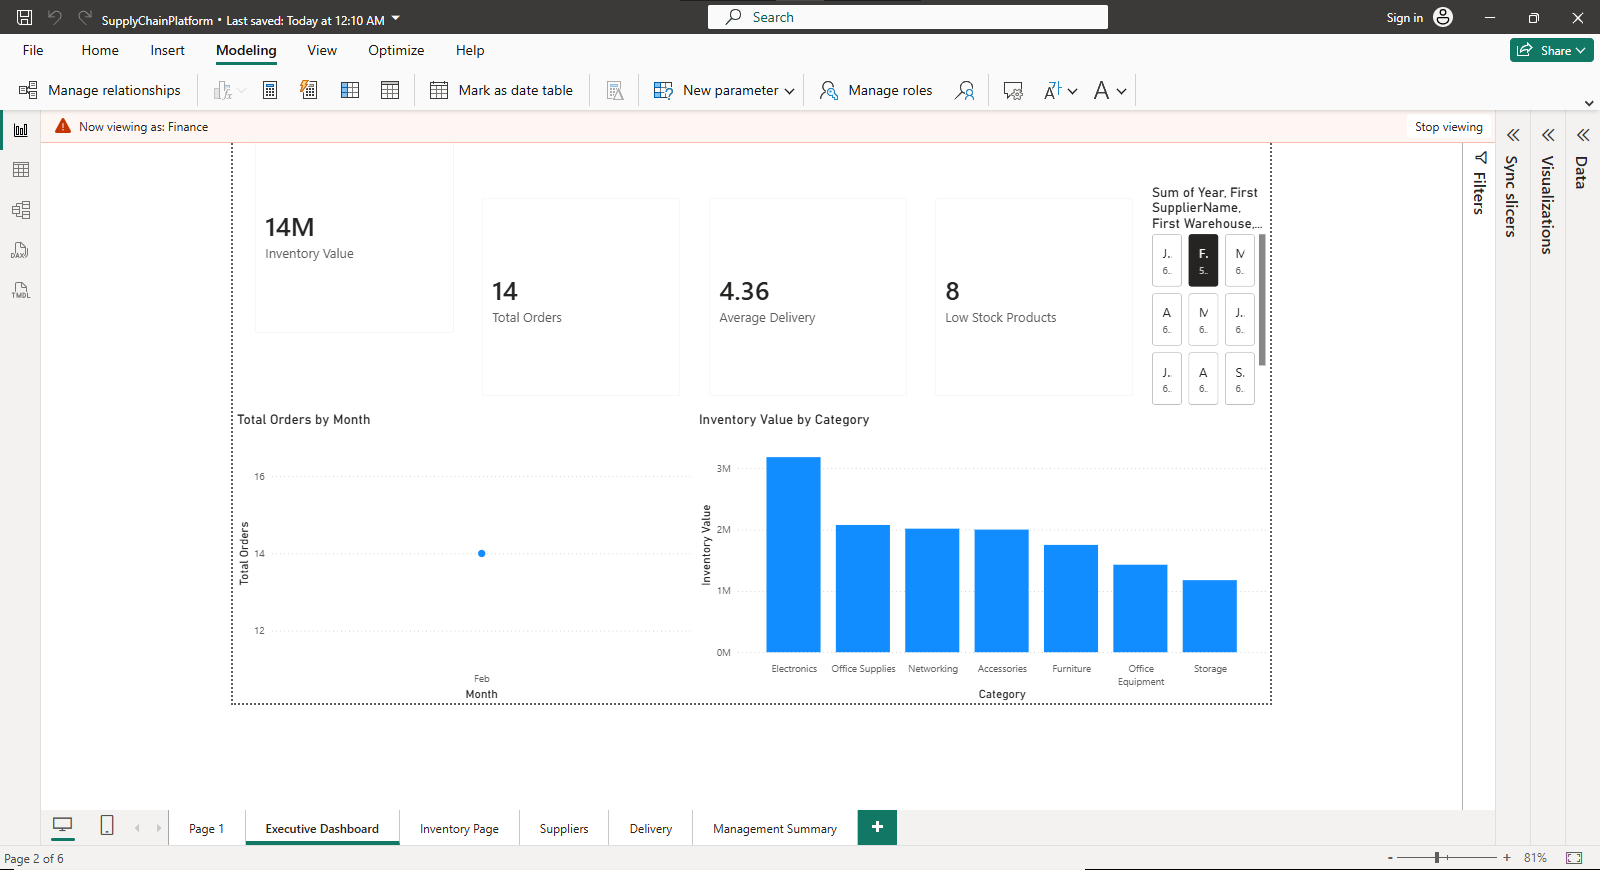

Layout of this report page (visuals, bound fields, positions):
{"tool":"powerbi","page":{"name":"Executive Dashboard","canvas":[1280,720],"ordinal":1},"visuals":[{"type":"cardVisual","fields":{"Data":["Orders.Inventory Value"]},"box":[10,0,280,280],"z":0},{"type":"cardVisual","fields":{"Data":["Orders.Total Orders"]},"box":[290.5,79.5,279.6,279.6],"z":1},{"type":"cardVisual","fields":{"Data":["Orders.Average Delivery"]},"box":[570.1,79.5,279.6,279.6],"z":2},{"type":"cardVisual","fields":{"Data":["Orders.Low Stock Products"]},"box":[849.7,79.5,279.6,279.6],"z":3},{"type":"lineChart","fields":{"Category":["Calendar.Month"],"Y":["Orders.Total Orders"]},"box":[0,359.1,570.1,361.8],"z":4},{"type":"clusteredColumnChart","fields":{"Category":["Inventory.Category"],"Y":["Orders.Inventory Value"]},"box":[570.1,359.1,709.9,361.8],"z":5},{"type":"advancedSlicerVisual","fields":{"Label":["Sum(Calendar.Year)"],"Values":["Calendar.Month"]},"box":[1130,79,150,280],"z":6}]}

Visuals, with their boxes on the page's 1280x720 design canvas (x1, y1, x2, y2). These are canvas units, not pixel positions in the 1600x870 screenshot, which may show the page scaled, cropped or inside an application window:
cardVisual - Orders.Inventory Value: left=10, top=0, right=290, bottom=280
cardVisual - Orders.Total Orders: left=290, top=80, right=570, bottom=359
cardVisual - Orders.Average Delivery: left=570, top=80, right=850, bottom=359
cardVisual - Orders.Low Stock Products: left=850, top=80, right=1129, bottom=359
lineChart - Calendar.Month x Orders.Total Orders: left=0, top=359, right=570, bottom=721
clusteredColumnChart - Inventory.Category x Orders.Inventory Value: left=570, top=359, right=1280, bottom=721
advancedSlicerVisual - Sum(Calendar.Year) x Calendar.Month: left=1130, top=79, right=1280, bottom=359
